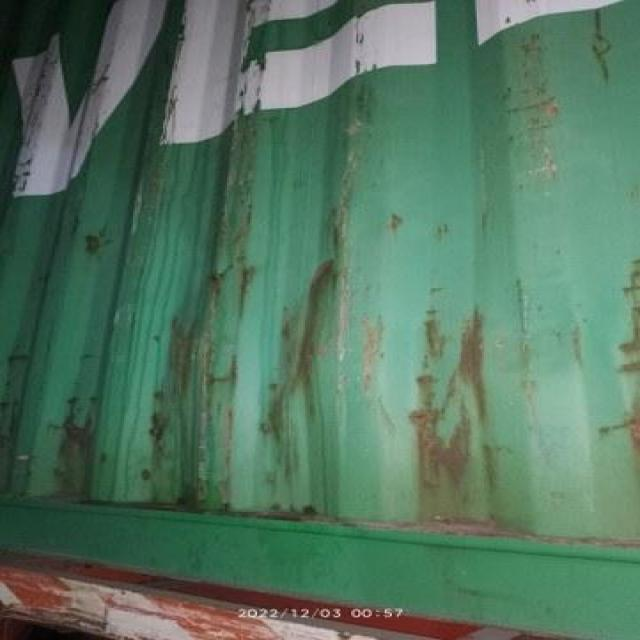rust: (163, 265, 335, 452), (416, 313, 512, 520)
